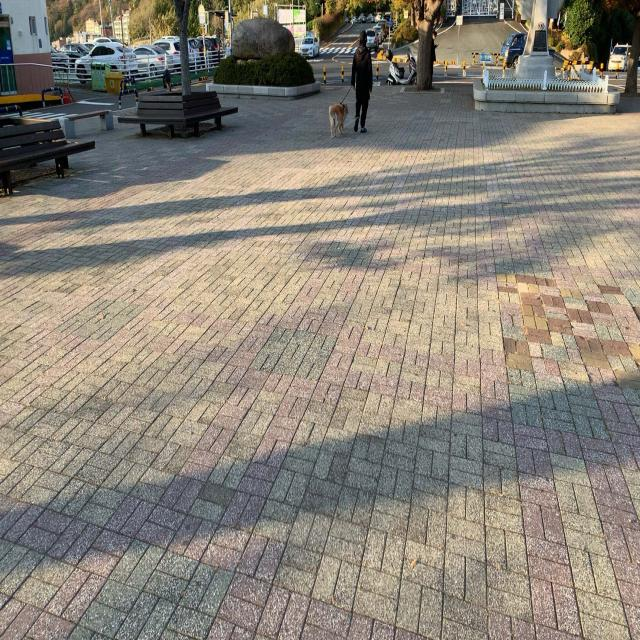Leashed_Dog: (328, 82, 370, 138)
